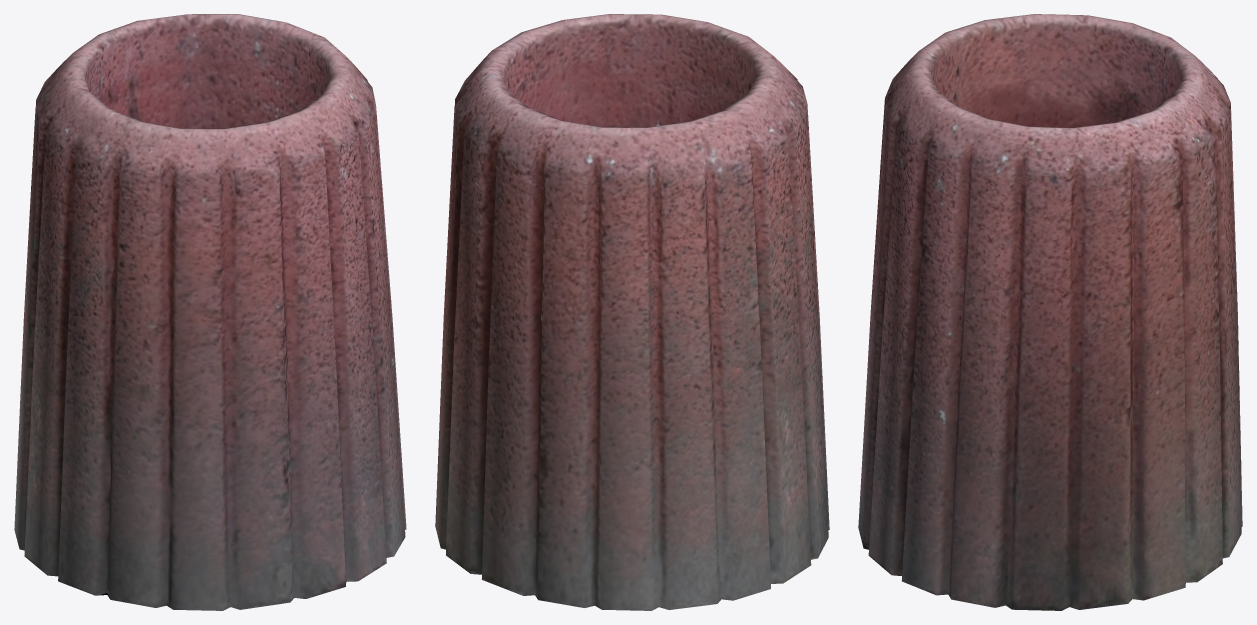
File: Trash_001_Lpoly.obj
The picture shows the model from 3 angles, left to right: view 1: azimuth 30°, elevation 25°; view 2: azimuth 150°, elevation 25°; view 3: azimuth 270°, elevation 25°; orthographic projection.
Parts seen in each view (by area): view 1: Cylinder001; view 2: Cylinder001; view 3: Cylinder001.
Part boxes in pixels (x1,y1,x2,y2): Cylinder001: (14,14,406,610); Cylinder001: (435,14,829,610); Cylinder001: (858,14,1242,610).
Bounding box in the file's own units: 6.01 × 7.69 × 5.86.
